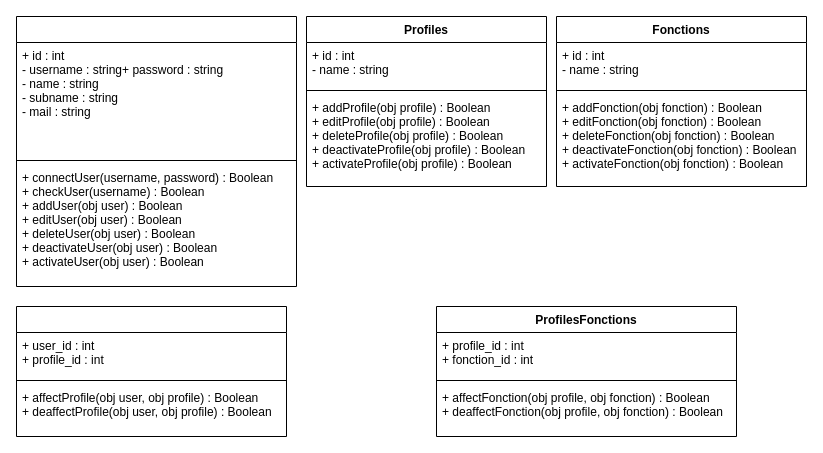
The diagram is 823 pixels wide and 453 high, and some of its shapes have lost their labels. The shapes that lost their labels are listed below. From the top down, each one's box as (x1, y1, x2, y2) in pixels, then its label:
(16, 16, 296, 286): Users
(16, 306, 286, 436): UsersProfiles
